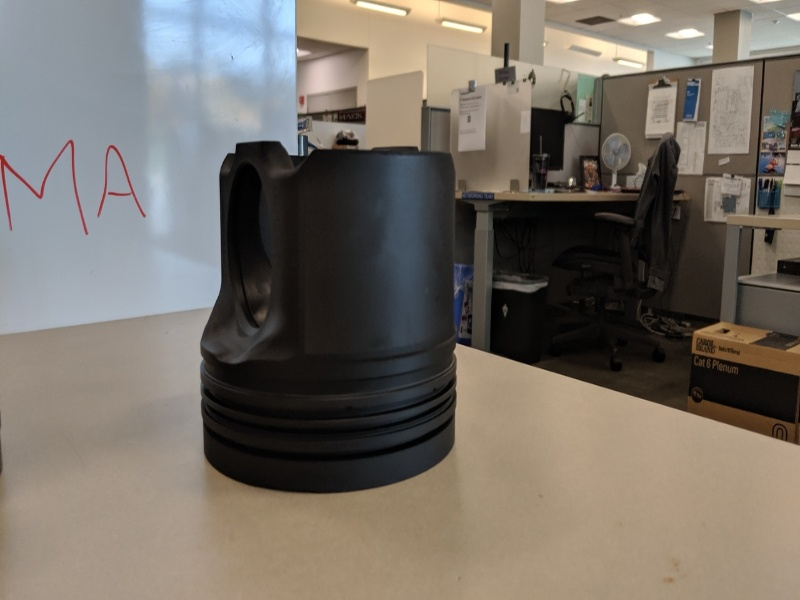piston: (189, 135, 465, 497)
